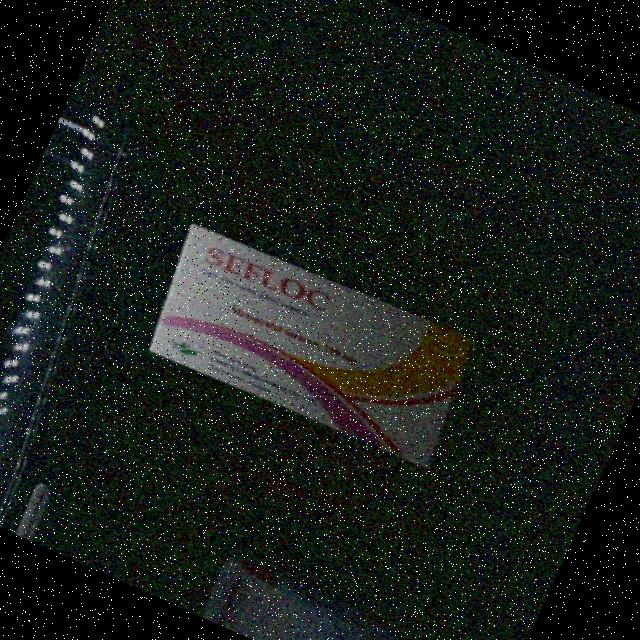medicine_name_detection: (141, 215, 488, 472)
